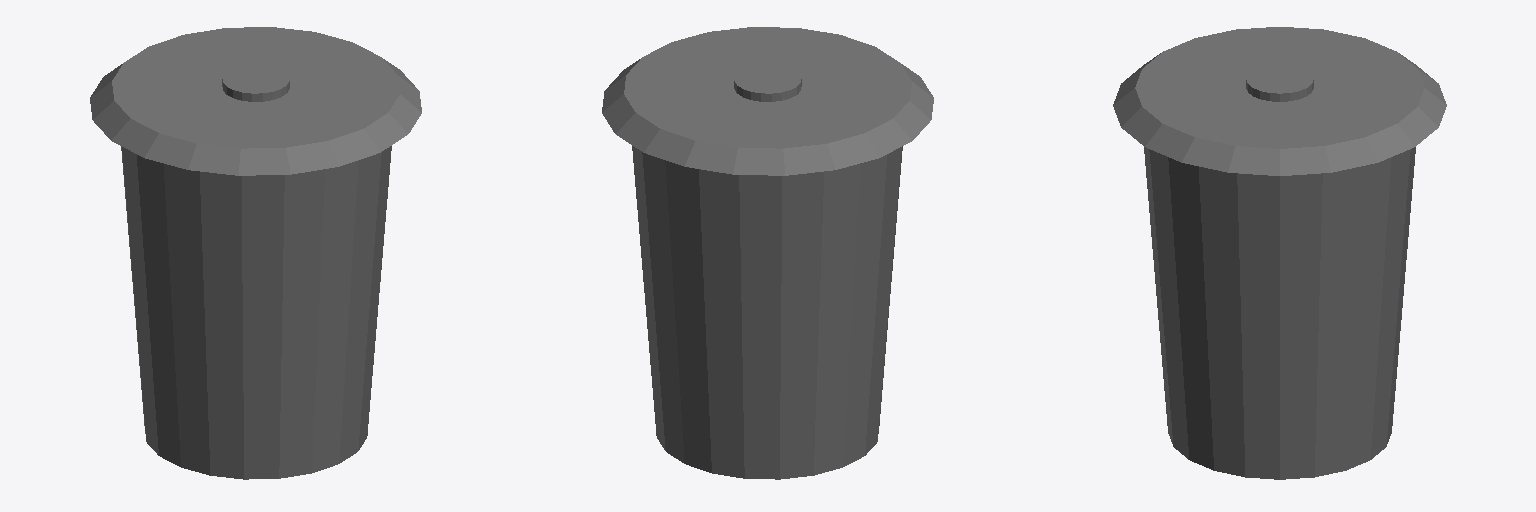
Rendered from TrashCan.obj.
3 views of the same model, side by side, from view 1: azimuth 30°, elevation 25°; view 2: azimuth 150°, elevation 25°; view 3: azimuth 270°, elevation 25° (orthographic).
Visible parts, largest first — view 1: TrashCan; view 2: TrashCan; view 3: TrashCan.
Part boxes in pixels (x1,y1,x2,y2): TrashCan: (90,27,421,479); TrashCan: (602,27,933,479); TrashCan: (1113,27,1446,479).
Size of the model in its own units: 2.99 by 3.48 by 2.99.